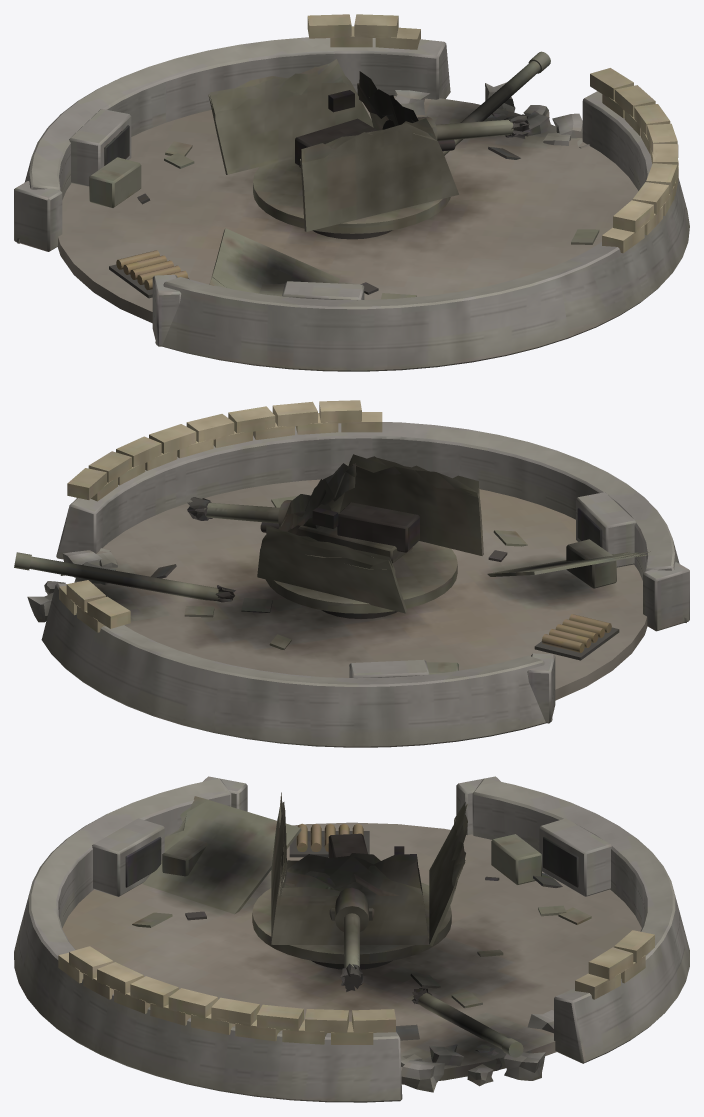
File: a01_battery_gun_broken.glb
3 views of the same model, one above another, from view 1: azimuth 30°, elevation 25°; view 2: azimuth 150°, elevation 25°; view 3: azimuth 270°, elevation 25° (orthographic). The views are drawn at different scales.
Visible parts, largest first — view 1: body.001; view 2: body.001; view 3: body.001.
Boxes of the visible parts, left/top/right/bottom form: body.001: left=14, top=14, right=689, bottom=371; body.001: left=14, top=400, right=689, bottom=747; body.001: left=14, top=776, right=689, bottom=1102.
Bounding box in the file's own units: 0.9304 × 0.208 × 0.9723.
1 material, 1 textured.
